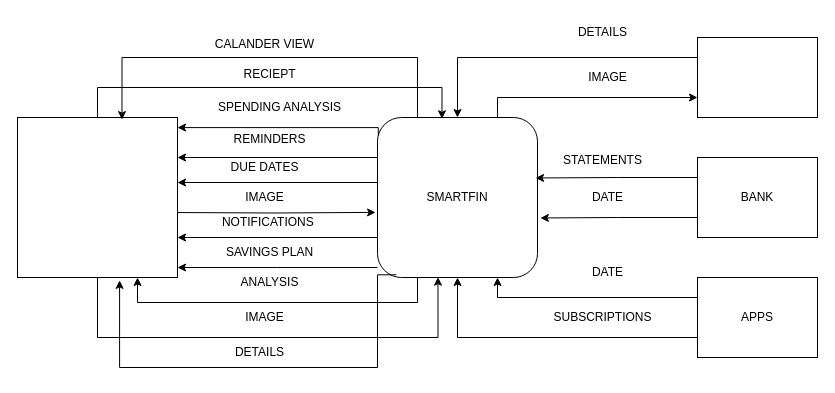
Image size: 835x393. Some labels were removed from this diagram. Here are the shapes that lost their labels. From the top down, the box of each, then its label:
(696, 36, 818, 118): LLM(OCR)
(16, 116, 178, 278): USER
